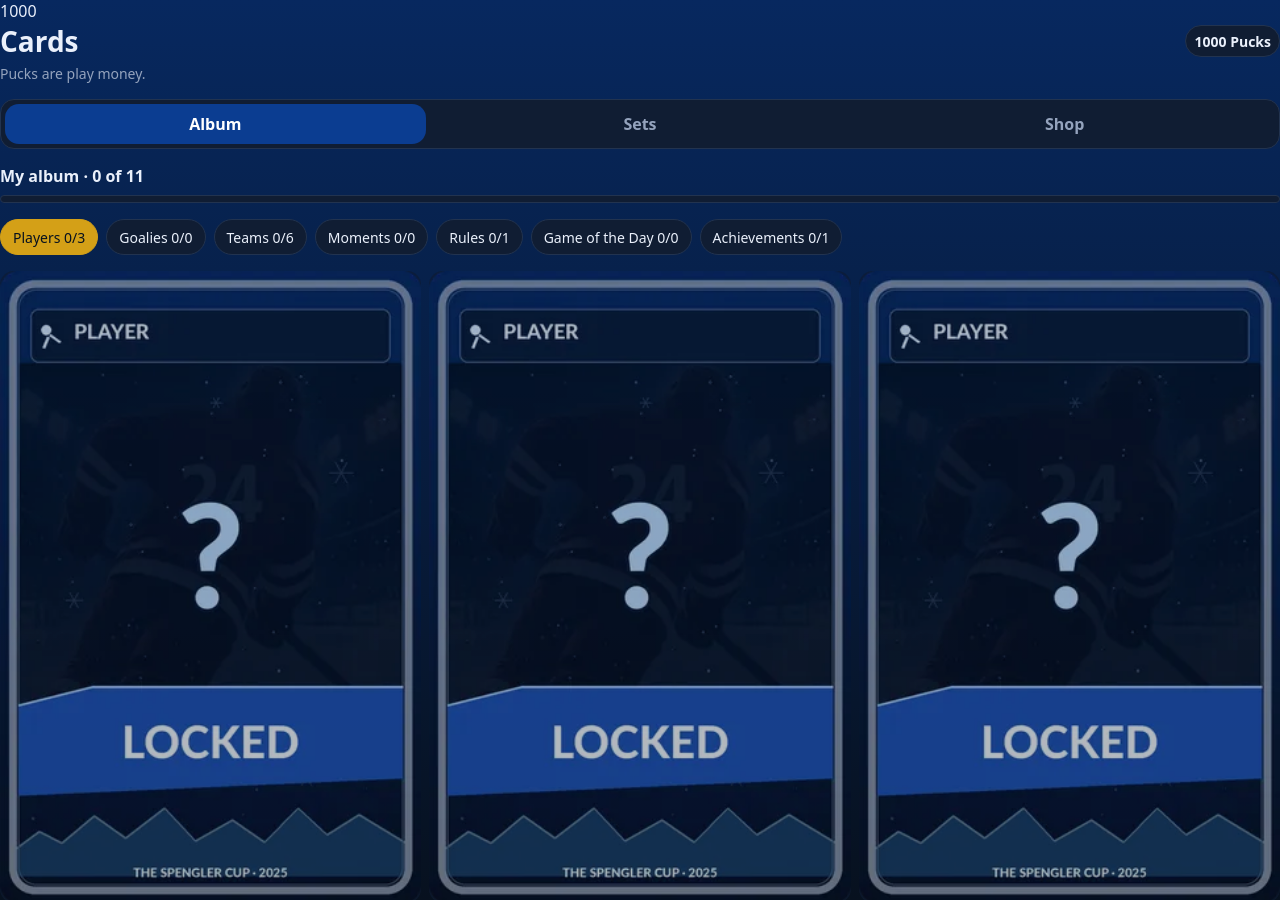
it: Cards shop and sets › shop_pack_reduces_pucks_and_reveals_the_cards
Click the tab "Shop" at (1065, 124), box [854,104,1275,144]
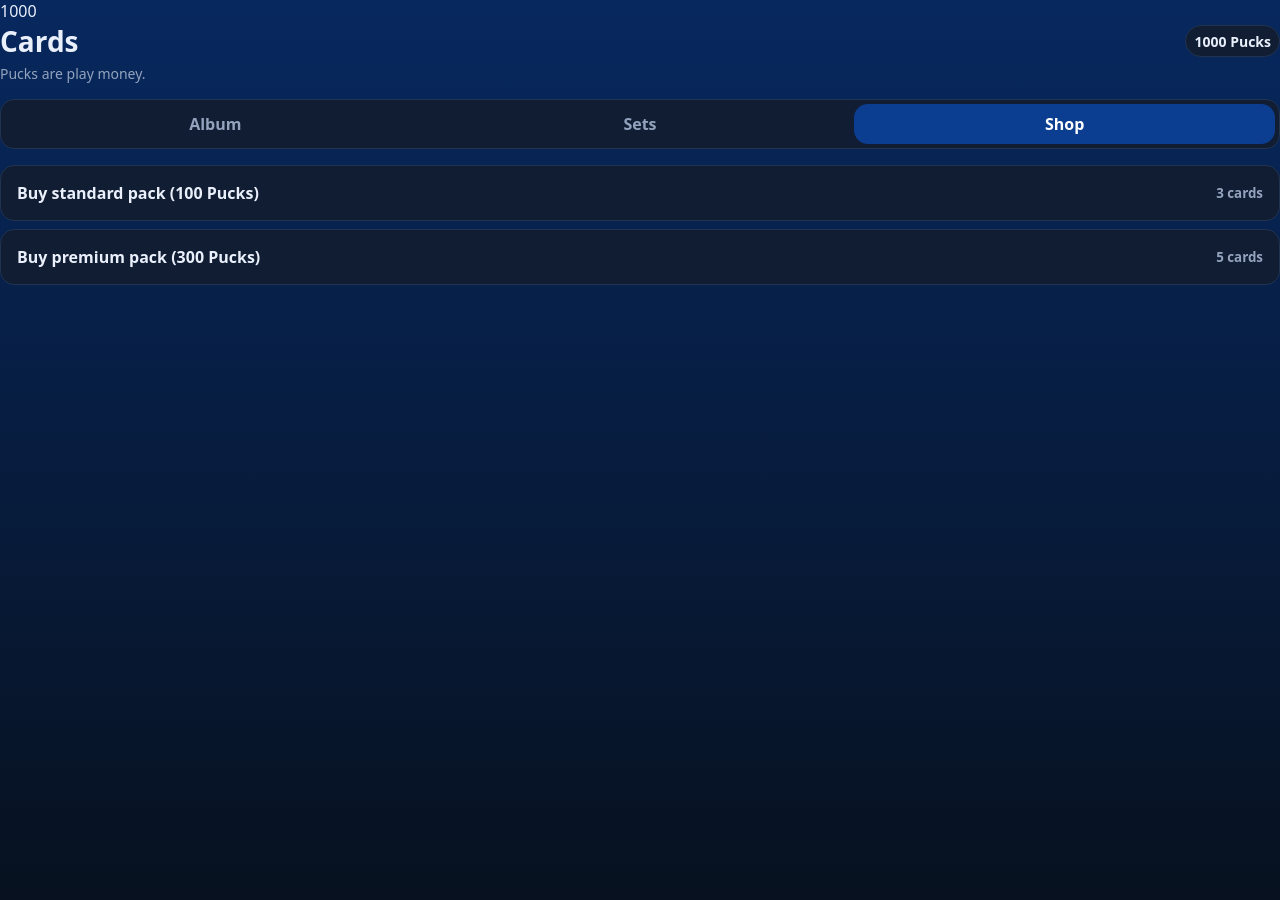
Click the button "Buy standard pack (100 Pucks) 3 cards" at (34, 193), box [0,165,1279,221]
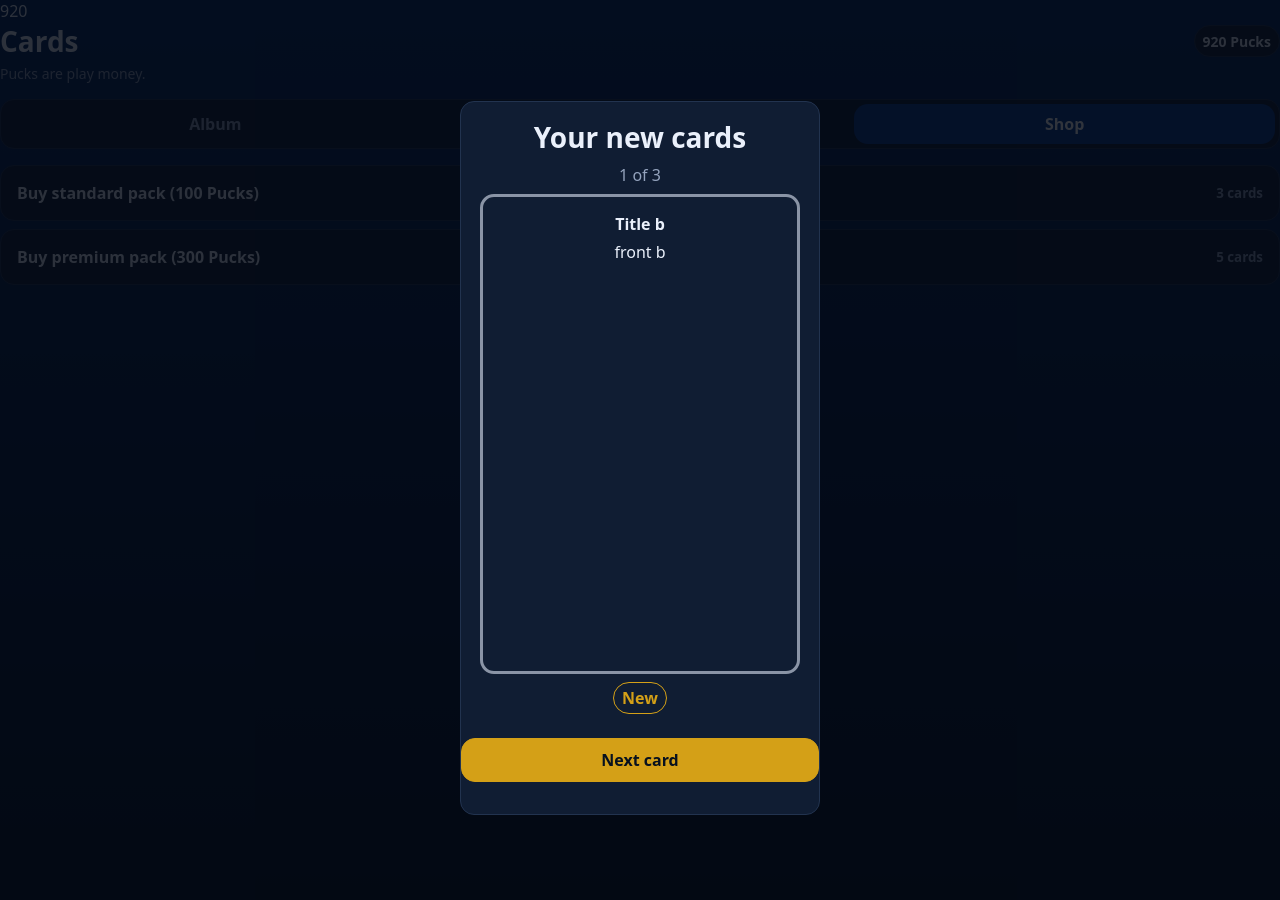
Expected: the text "1 of 3" is shown, [619,164,661,186]
Click the button "Next card" at (640, 760), box [461,738,819,782]
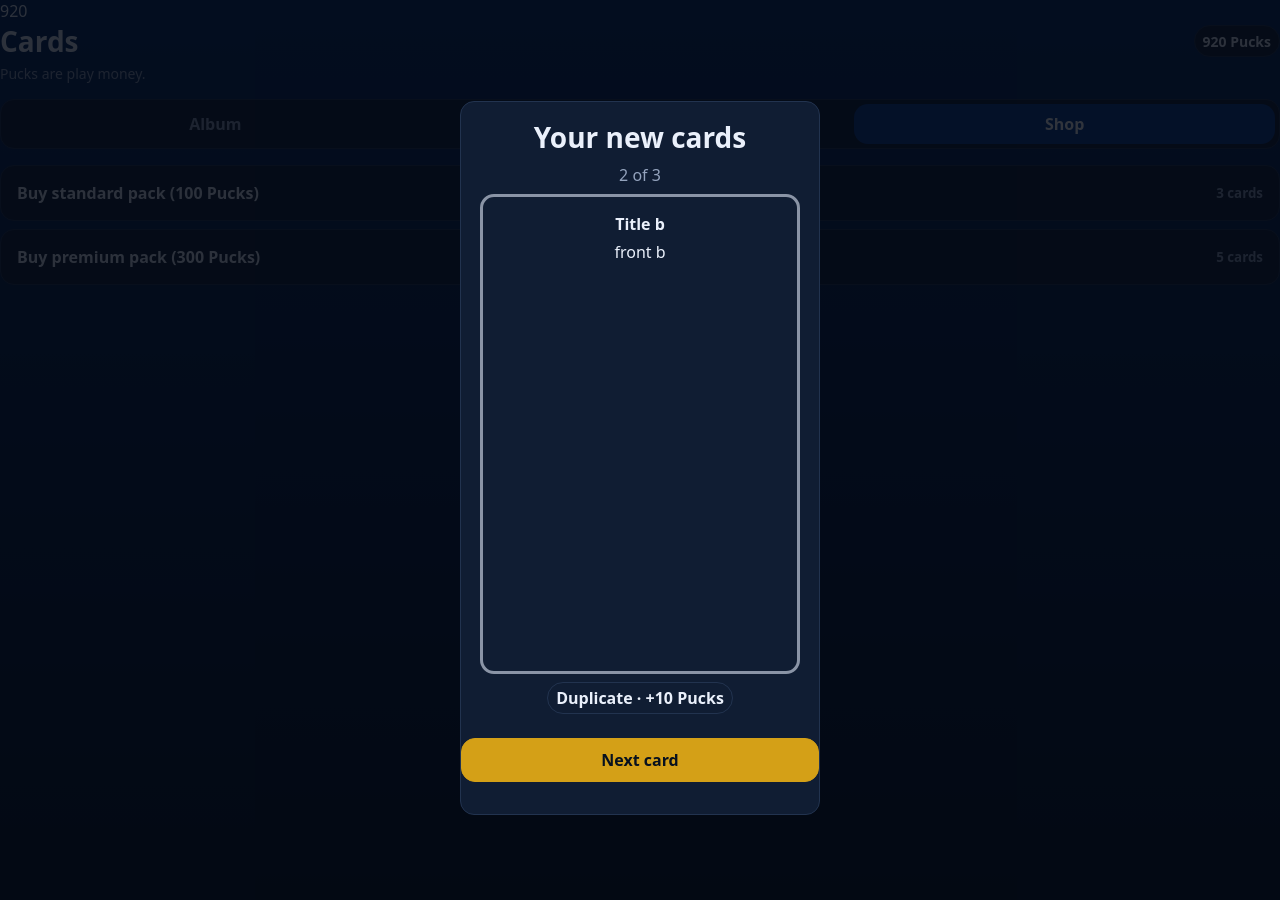
Click the button "Next card" at (640, 760), box [461,738,819,782]
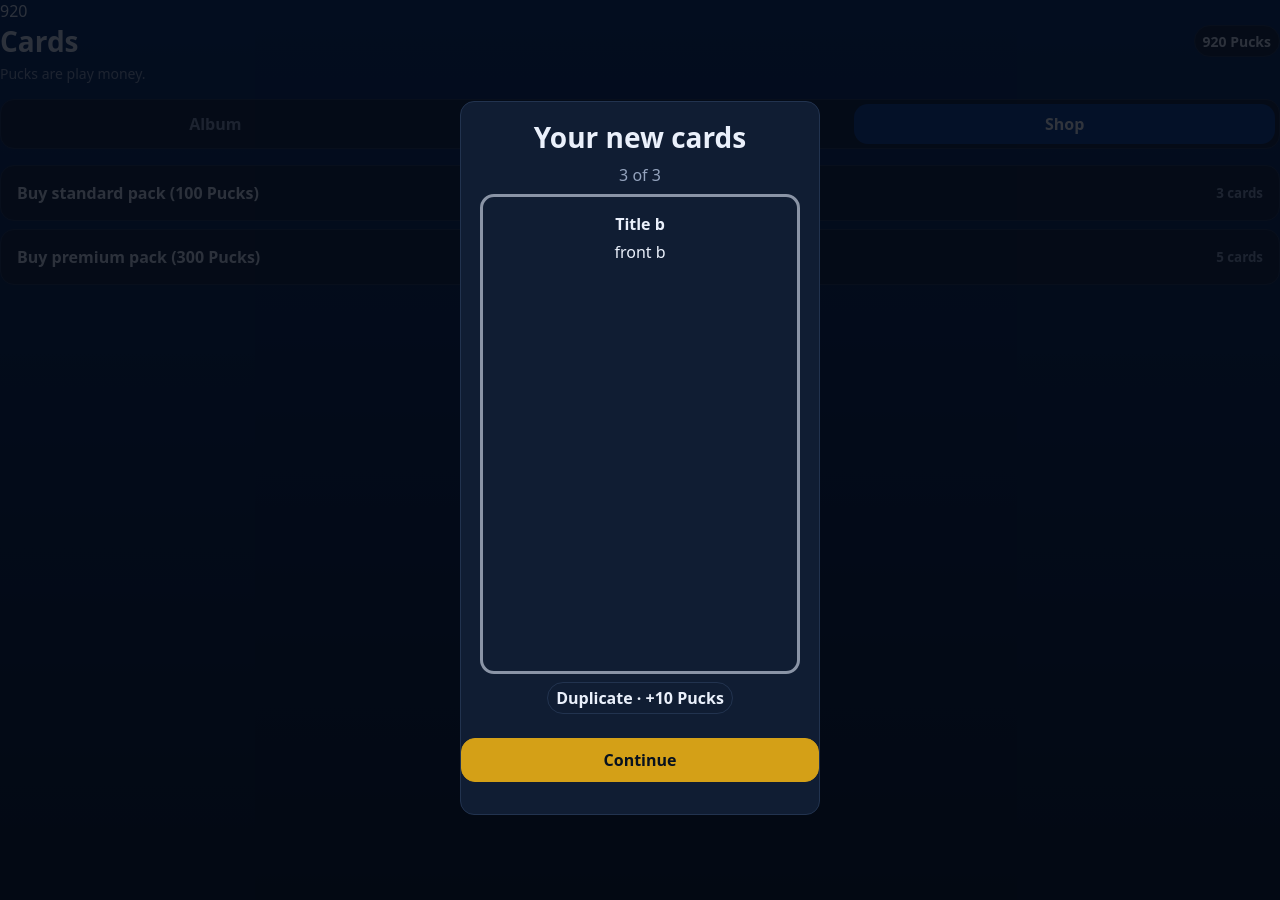
Click the button "Continue" at (640, 760), box [461,738,819,782]
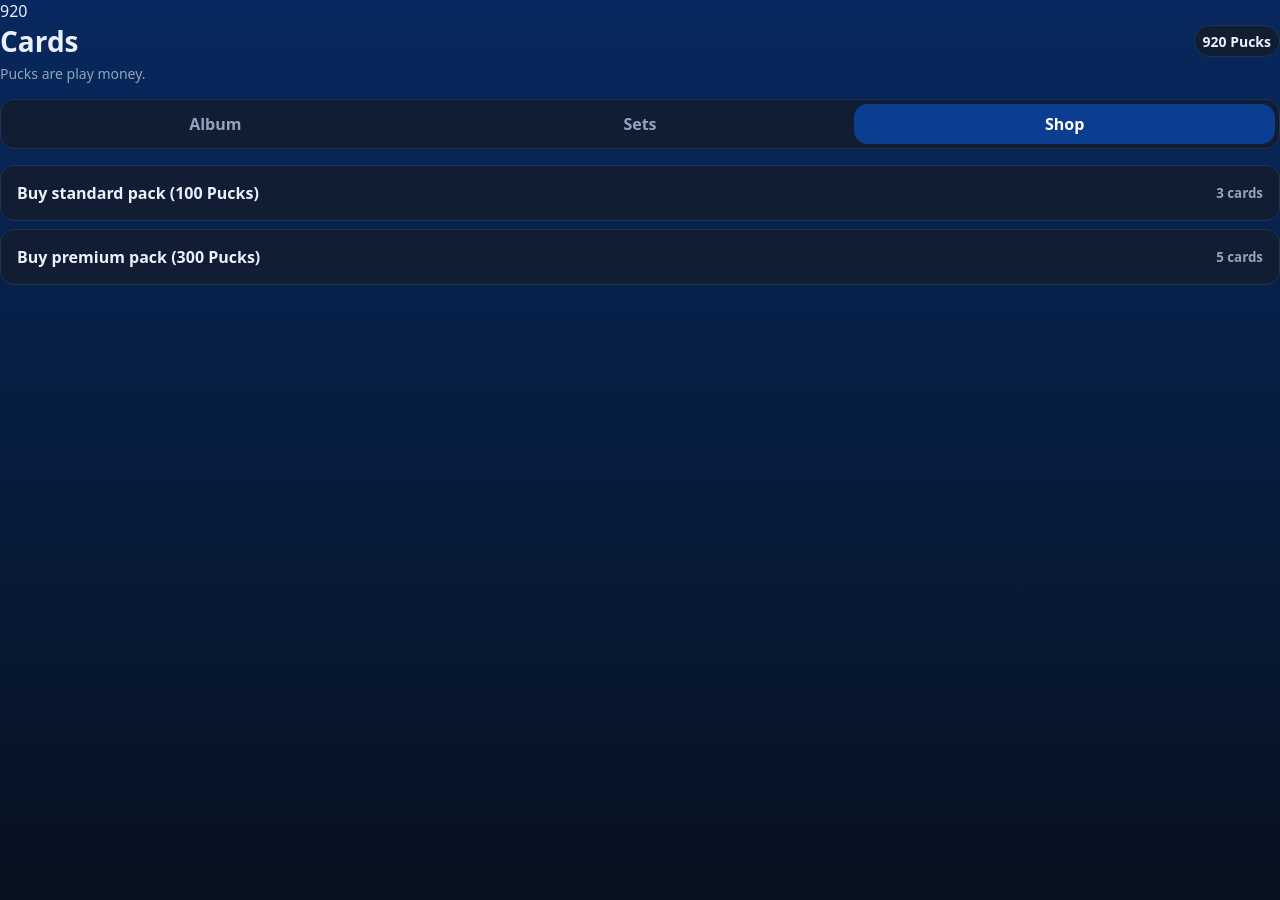
Expected: the dialog is gone
